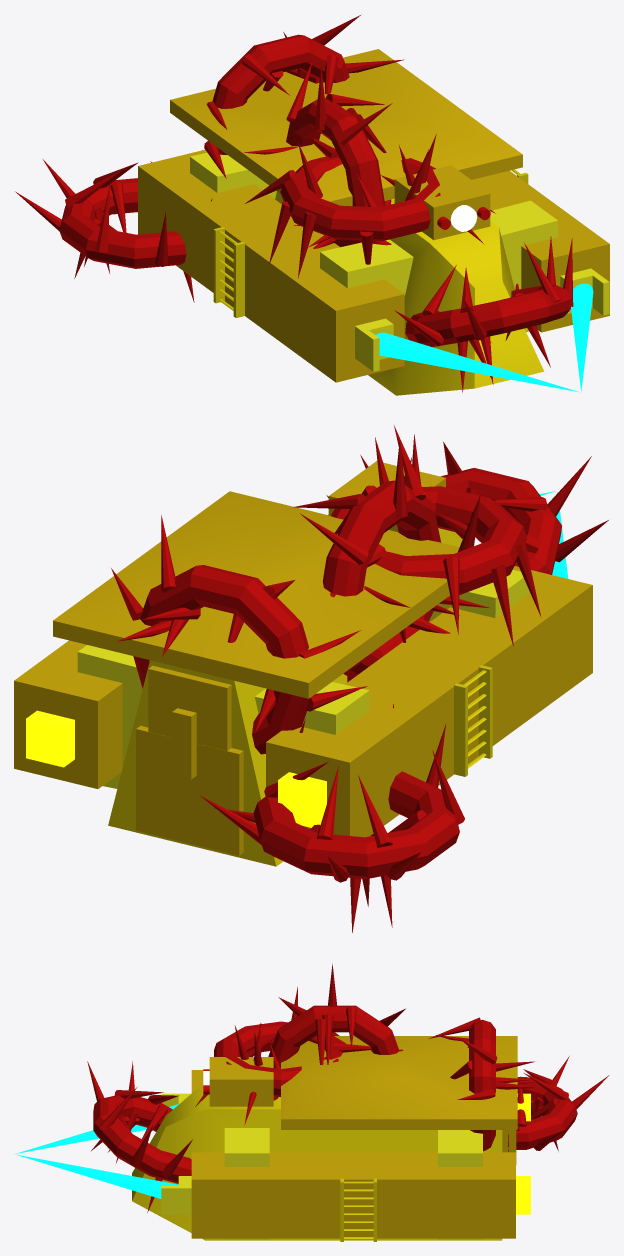
The model's file is ehd_v1.gltf.
3 views of the same model, one above another, from view 1: azimuth 30°, elevation 25°; view 2: azimuth 150°, elevation 25°; view 3: azimuth 270°, elevation 25° (orthographic). The views are drawn at different scales.
Visible parts, largest first — view 1: EHD_V1-BodyMain2 (×2), Spikes.1, EHD_V1-BodyMain, EHD_V1-BodyMain3 (×2), Drill, EHD_V1-Light; view 2: EHD_V1-BodyMain2 (×2), Spikes.1, EHD_V1-BodyMain, EHD_V1-BodyMain3, EHD_V1-Boosters; view 3: EHD_V1-BodyMain2 (×2), Spikes.1, EHD_V1-BodyMain, EHD_V1-BodyMain3 (×2), Drill, EHD_V1-Boosters.
Part boxes in pixels (x1,y1,x2,y2): EHD_V1-BodyMain2 (×2): (138, 49, 609, 382); Spikes.1: (15, 15, 573, 392); EHD_V1-BodyMain: (213, 169, 544, 395); EHD_V1-BodyMain3 (×2): (190, 152, 609, 371); Drill: (376, 283, 593, 392); EHD_V1-Light: (450, 205, 477, 231); EHD_V1-BodyMain2 (×2): (14, 461, 592, 855); Spikes.1: (111, 425, 608, 932); EHD_V1-BodyMain: (108, 528, 492, 866); EHD_V1-BodyMain3: (77, 570, 529, 788); EHD_V1-Boosters: (26, 710, 326, 827); EHD_V1-BodyMain2 (×2): (191, 1036, 517, 1238); Spikes.1: (87, 963, 609, 1212); EHD_V1-BodyMain: (132, 1084, 502, 1241); EHD_V1-BodyMain3 (×2): (161, 1093, 482, 1239); Drill: (14, 1104, 178, 1198); EHD_V1-Boosters: (516, 1093, 530, 1214).
Size of the model in its own units: 6.28 by 4.48 by 10.56.
